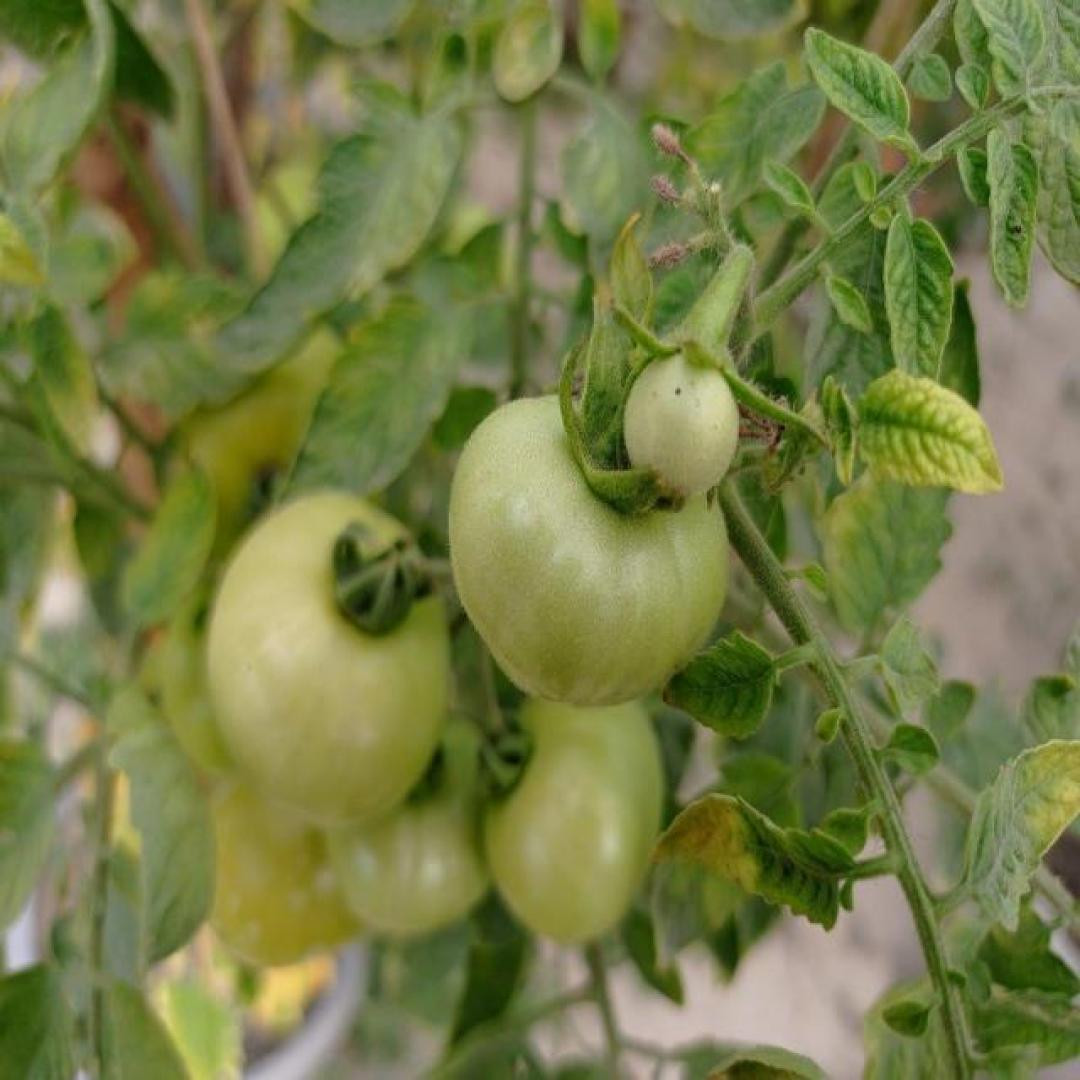mentah: (449, 392, 734, 707), (204, 484, 454, 829), (622, 351, 742, 494)
